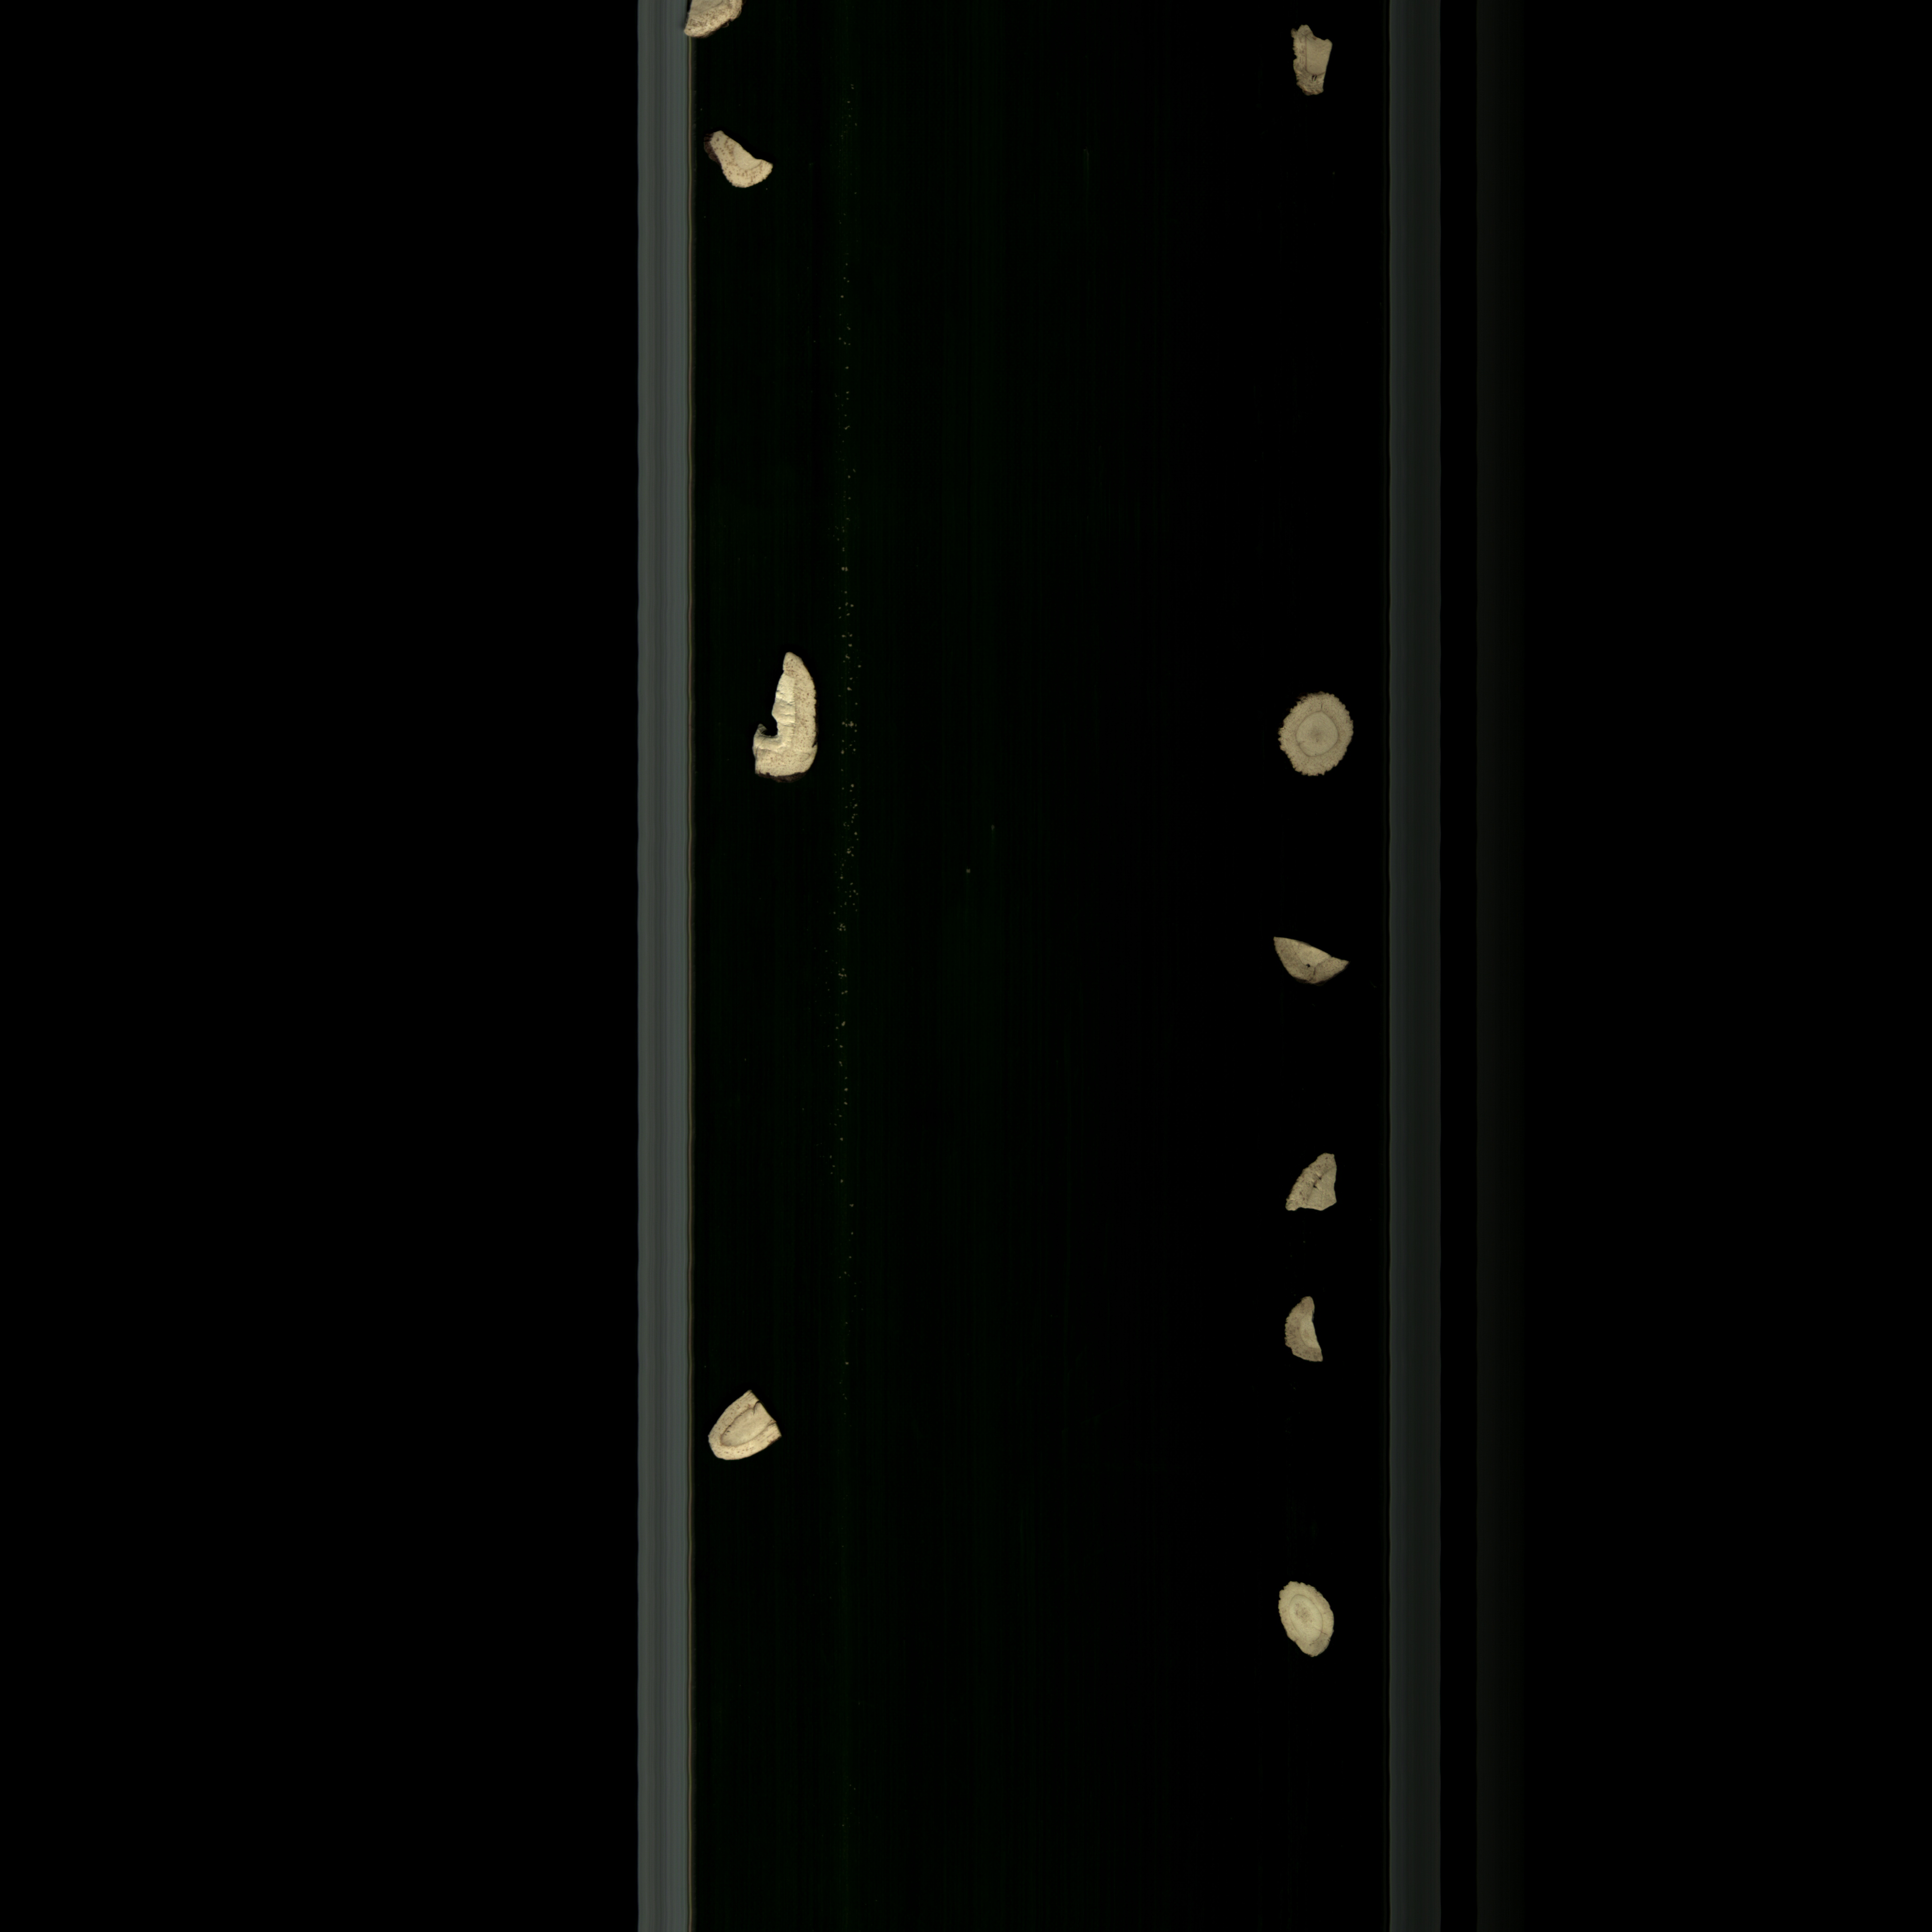debris: (743, 642, 823, 786), (1269, 1566, 1343, 1686), (701, 115, 793, 209), (701, 1373, 793, 1467), (1277, 1139, 1350, 1244), (1261, 924, 1361, 994), (1284, 1290, 1339, 1376)
dreg: (679, 0, 736, 51)
moldy: (1288, 16, 1339, 103)
